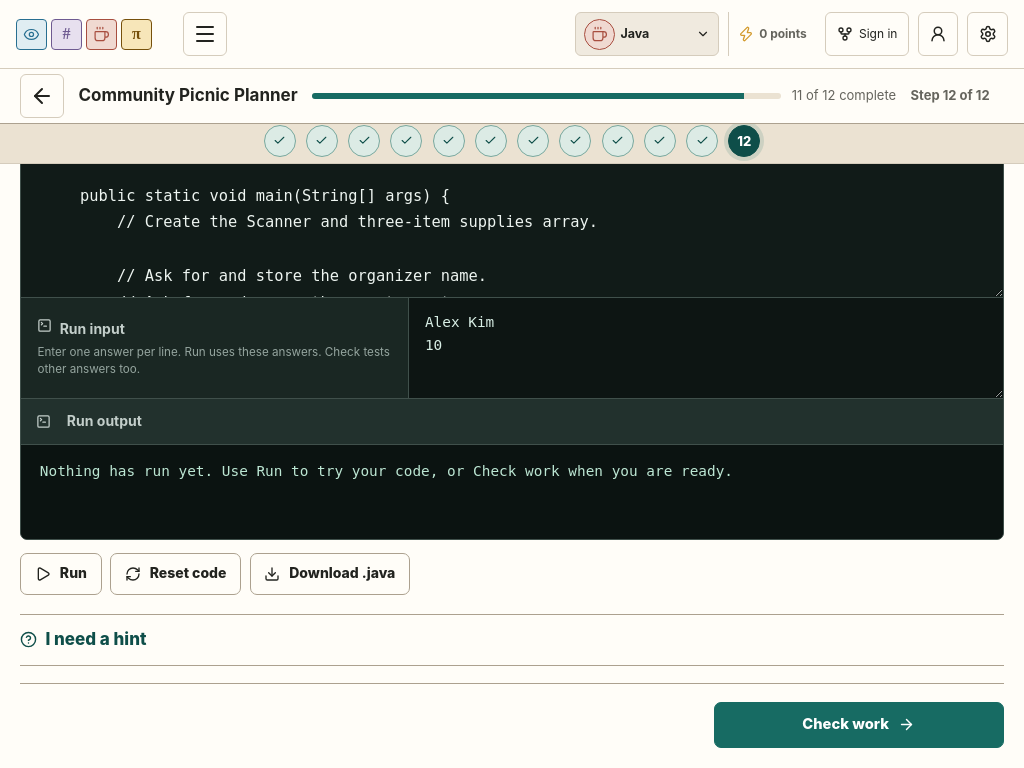
Test: Java guided project UI › opens the unlocked final deep link and sends Run to the Java runner
(page scrolled)
Expected: the button "Download .java" is shown, [250,552,410,594]
Expected: the text "Run output" is shown, [67,410,142,432]
What coordinates should you click on to do the following:
click the button "Run"
I would click on:
 (61, 574)
Its box is [20,552,102,594].
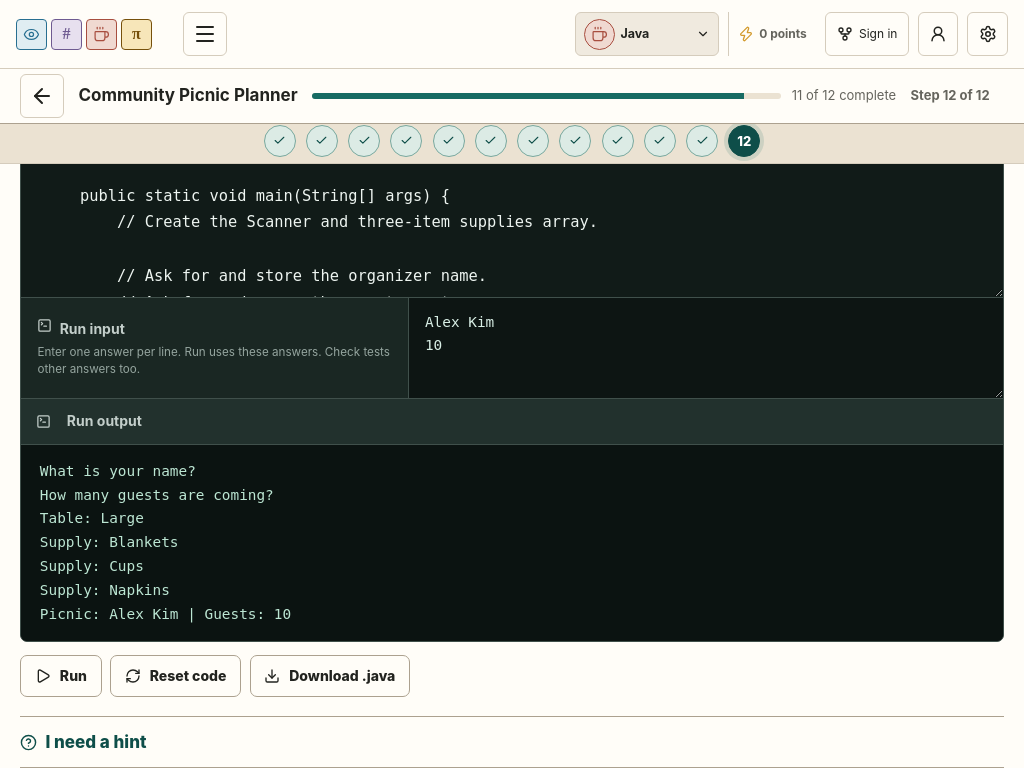
Expected: the text "Picnic: Alex Kim | Guests: 10" is shown, [40,463,291,622]
